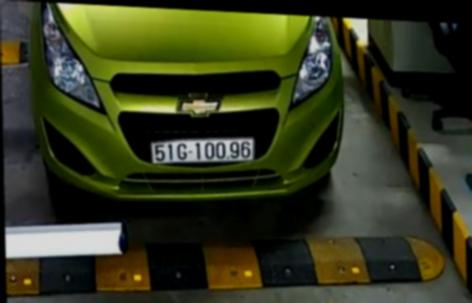License_Plate: (147, 132, 259, 168)
